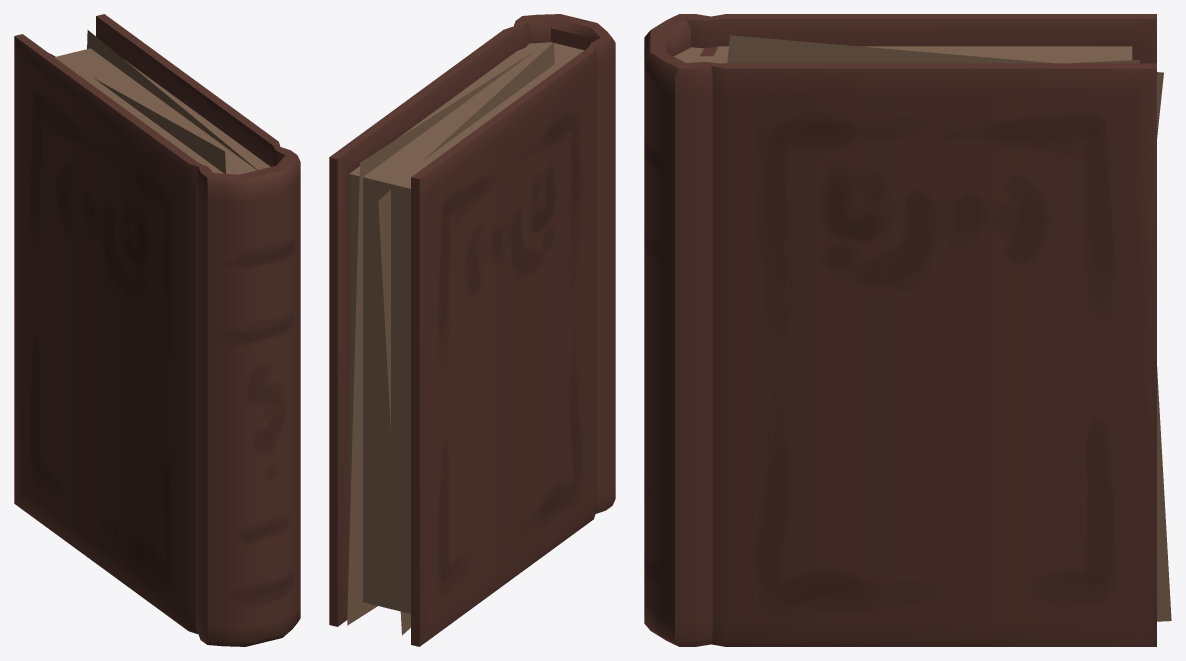
Rendered from FBX_Book_B_Small_Wide.fbx.
3 views of the same model, side by side, from view 1: azimuth 30°, elevation 25°; view 2: azimuth 150°, elevation 25°; view 3: azimuth 270°, elevation 25° (orthographic). The views are drawn at different scales.
Parts seen in each view (by area): view 1: Book_B_Small_Wide; view 2: Book_B_Small_Wide; view 3: Book_B_Small_Wide.
Part boxes in pixels (x1,y1,x2,y2): Book_B_Small_Wide: (14, 14, 300, 646); Book_B_Small_Wide: (329, 14, 615, 646); Book_B_Small_Wide: (644, 14, 1171, 646).
Bounding box in the file's own units: 0.0527 × 0.2609 × 0.2089.
